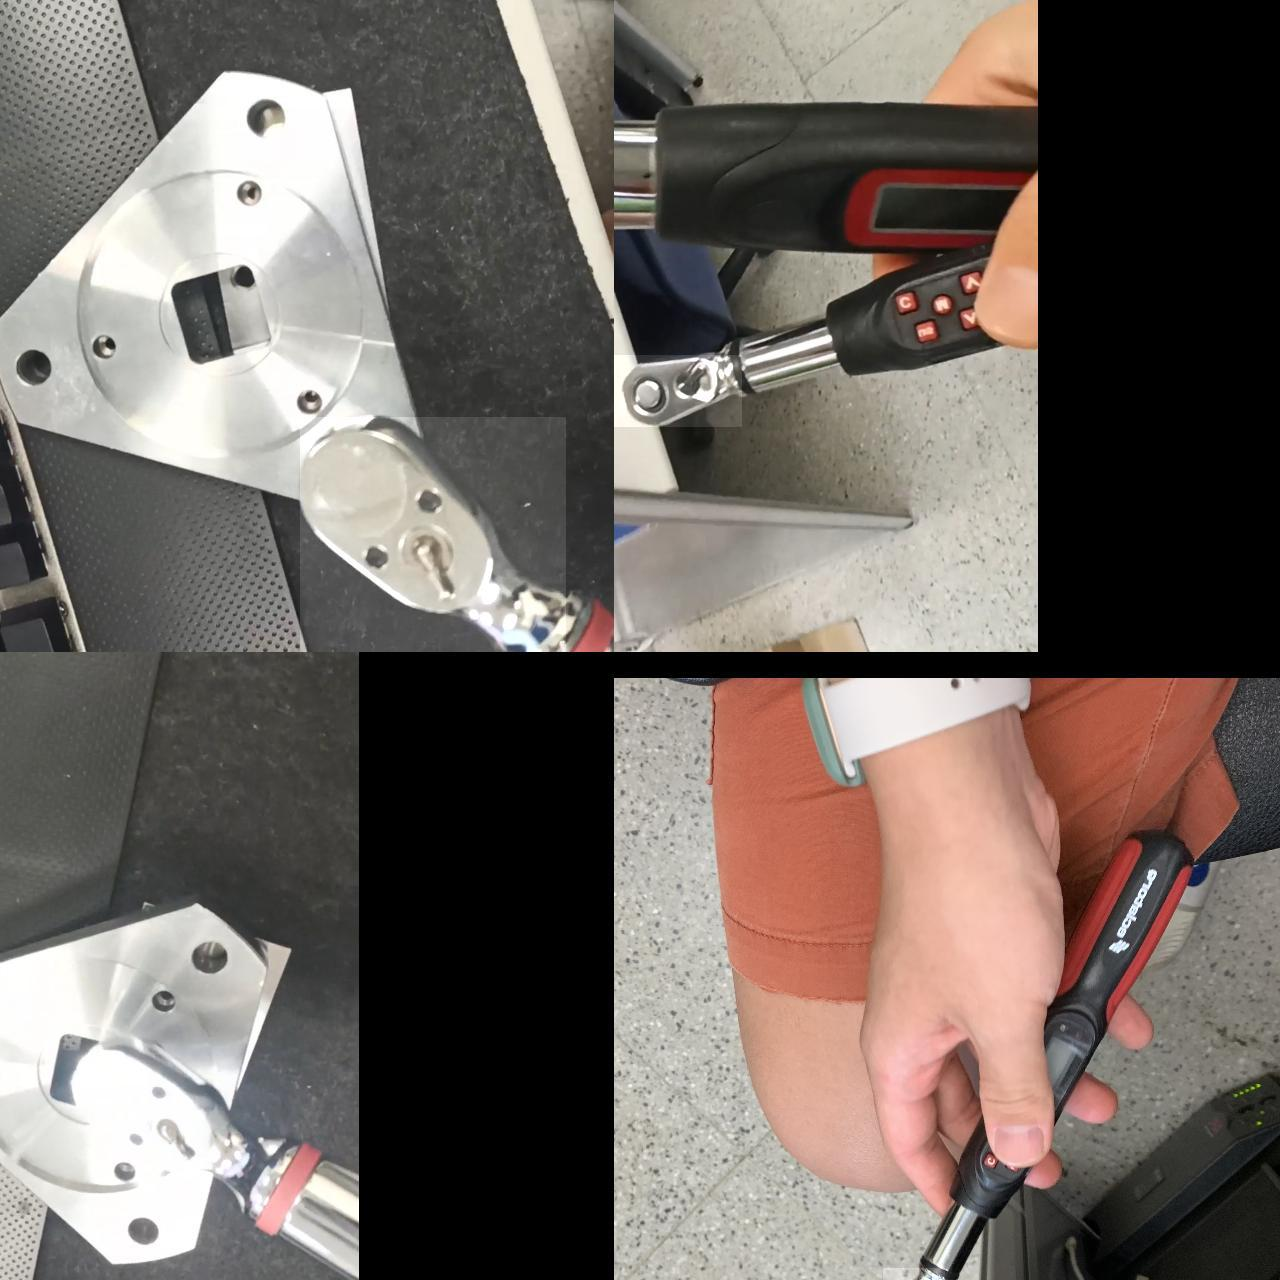Tool: (300, 416, 566, 652), (614, 354, 742, 425)
hole: (236, 89, 291, 142), (9, 349, 55, 394), (230, 172, 266, 211), (191, 940, 226, 980), (292, 379, 325, 417), (125, 1214, 164, 1247), (86, 335, 122, 368), (111, 1157, 136, 1185)
